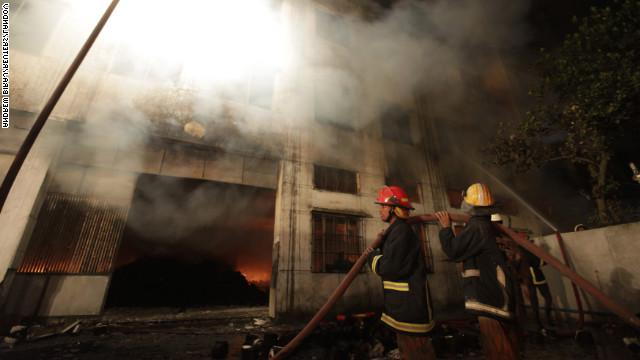fire: (237, 246, 279, 287)
